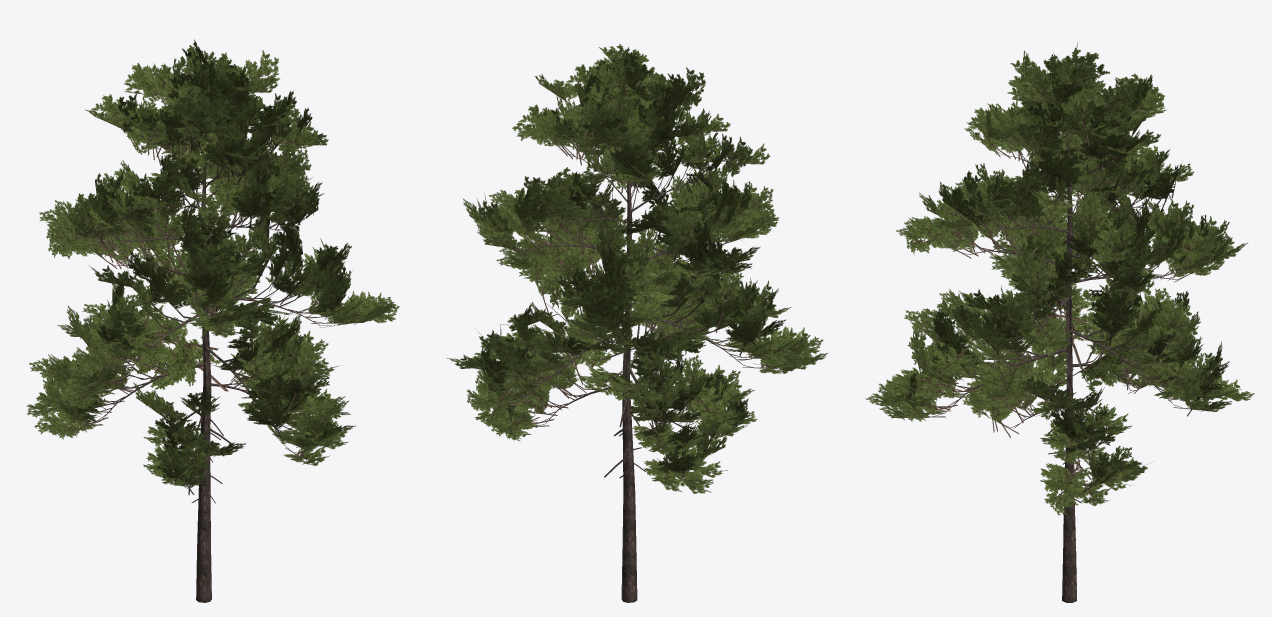
The model's file is pine.glb.
The picture shows the model from 3 angles, left to right: view 1: azimuth 30°, elevation 25°; view 2: azimuth 150°, elevation 25°; view 3: azimuth 270°, elevation 25°; orthographic projection.
Visible parts, largest first — view 1: Object_8, Object_7; view 2: Object_8, Object_7; view 3: Object_8, Object_7.
Part boxes in pixels (<box>): Object_8: <box>27,39,399,495</box>; Object_7: <box>84,104,345,602</box>; Object_8: <box>447,44,827,493</box>; Object_7: <box>506,137,771,602</box>; Object_8: <box>865,42,1254,515</box>; Object_7: <box>923,116,1202,602</box>.
Size of the model in its own units: 11.33 by 17.65 by 11.08.
Materials: 2 (2 with a texture image).
